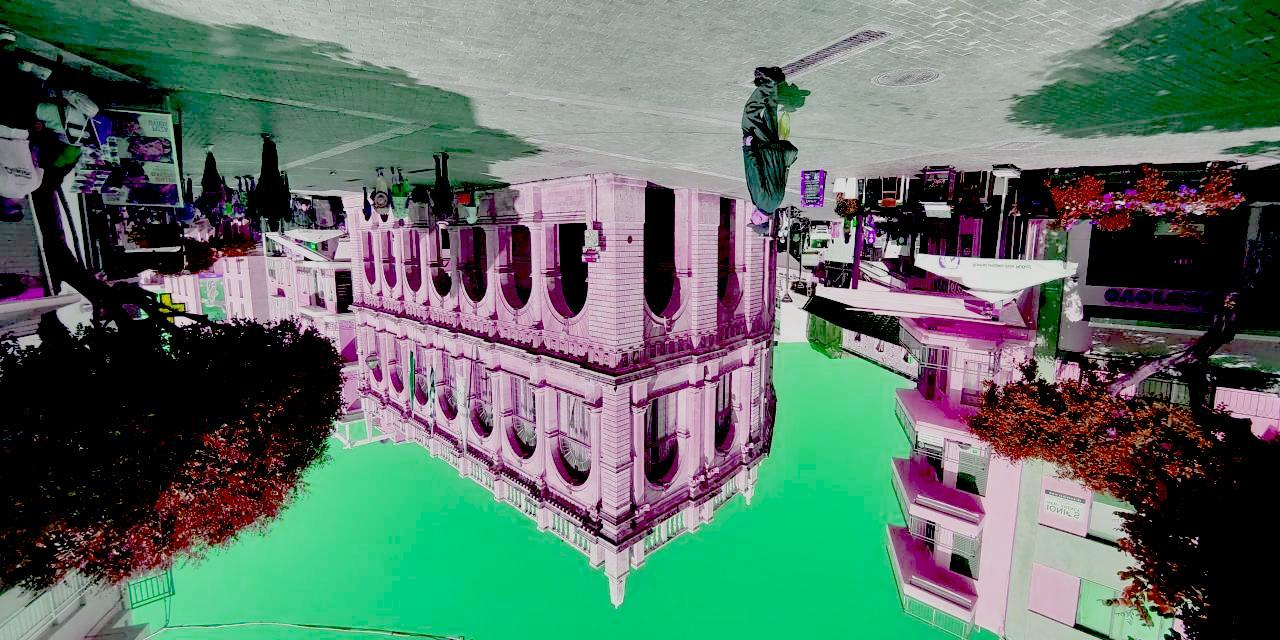Loggia: (347, 174, 799, 616)
